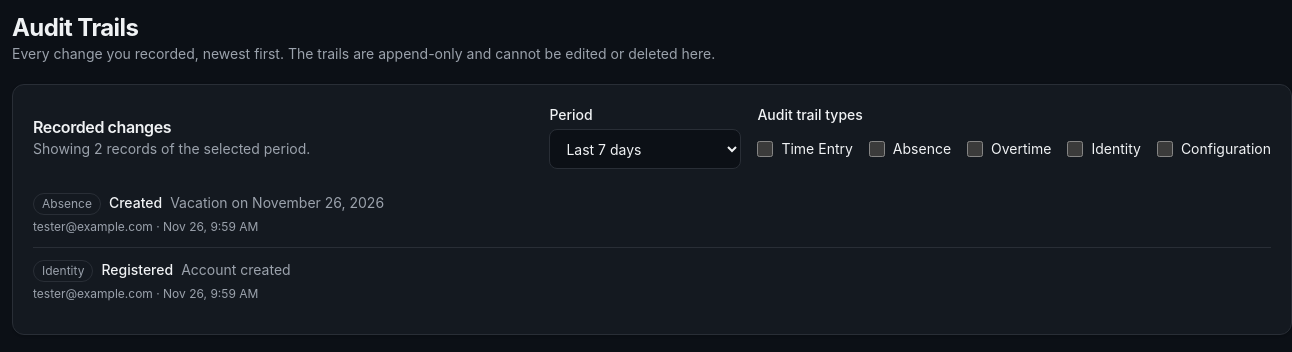
Test: AuditTrailsPage › shows an empty state when a type filter matches nothing
The width and height of the screenshot is (1292, 352).
Expected: the number of list items is 2, [33,181,1271,248]; [33,260,291,301]
What coordinates should you click on to do the following:
click the checkbox labelled "Overtime"
I would click on:
 (975, 149)
Its box is [967,141,983,157].
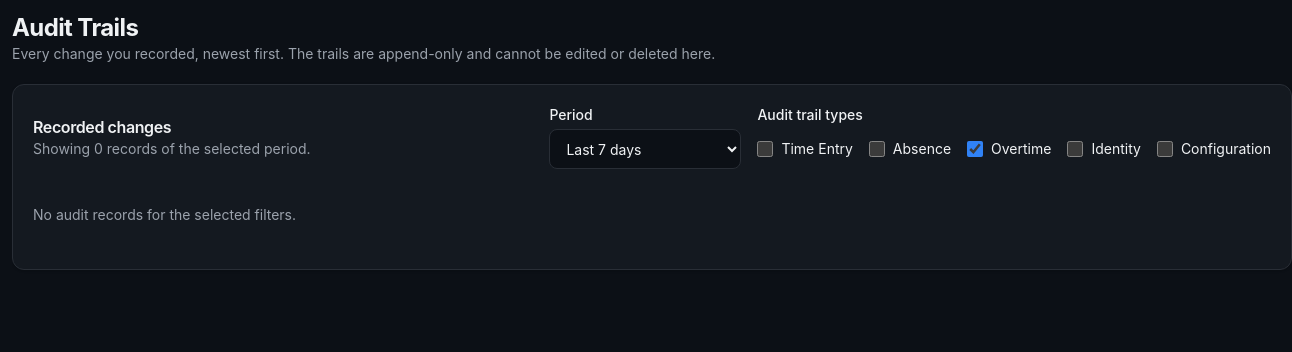
Expected: the text "No audit records for the selected filters." is shown, [33,206,296,223]
